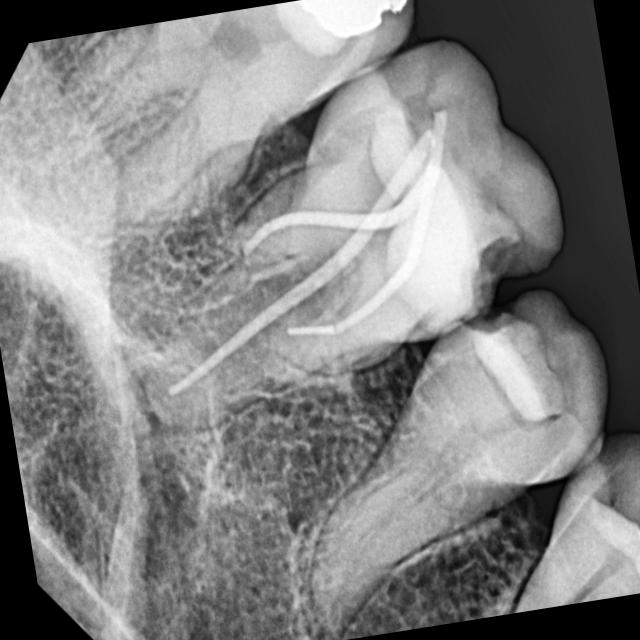Caries: (442, 197, 598, 381)
RCT: (101, 78, 471, 427)
